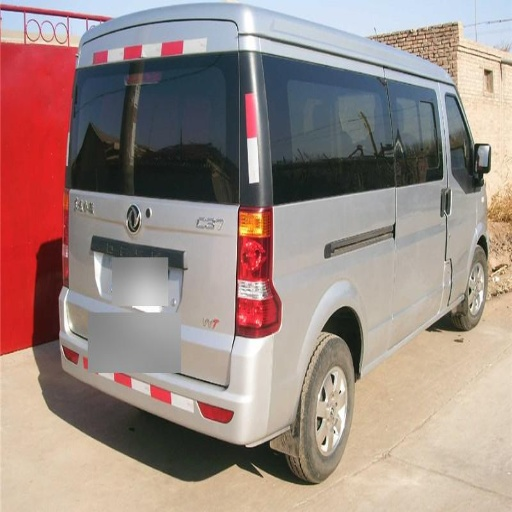back_bumper: (167, 332, 313, 445)
back_glass: (88, 129, 233, 202), (307, 82, 376, 154)
tailgate: (69, 186, 238, 302)
trunk: (70, 202, 263, 388), (294, 188, 443, 334)
